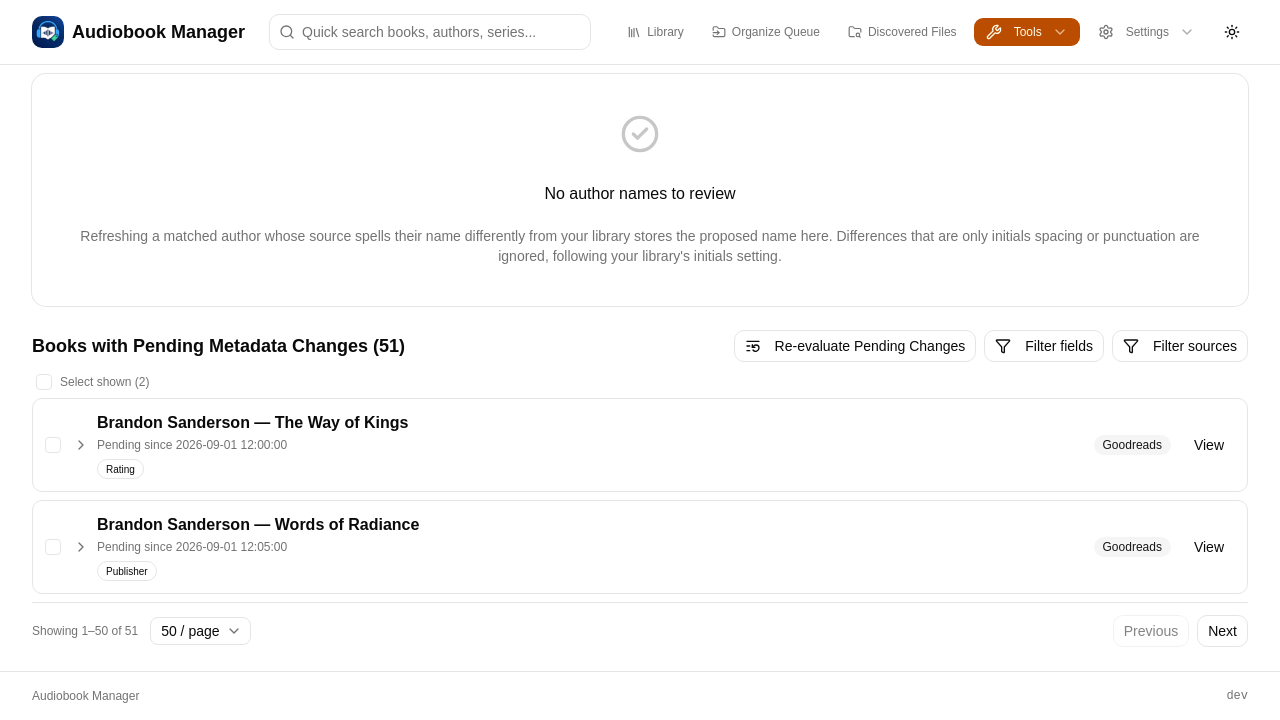
MetadataRefresh › paginates when the result set spans multiple pages
The image size is (1280, 720).
(page scrolled)
Check: the text "Showing 1–50 of 51" is shown, box left=32, top=623, right=138, bottom=639
Click the button "Next".
click(1223, 631)  # box left=1197, top=615, right=1248, bottom=647
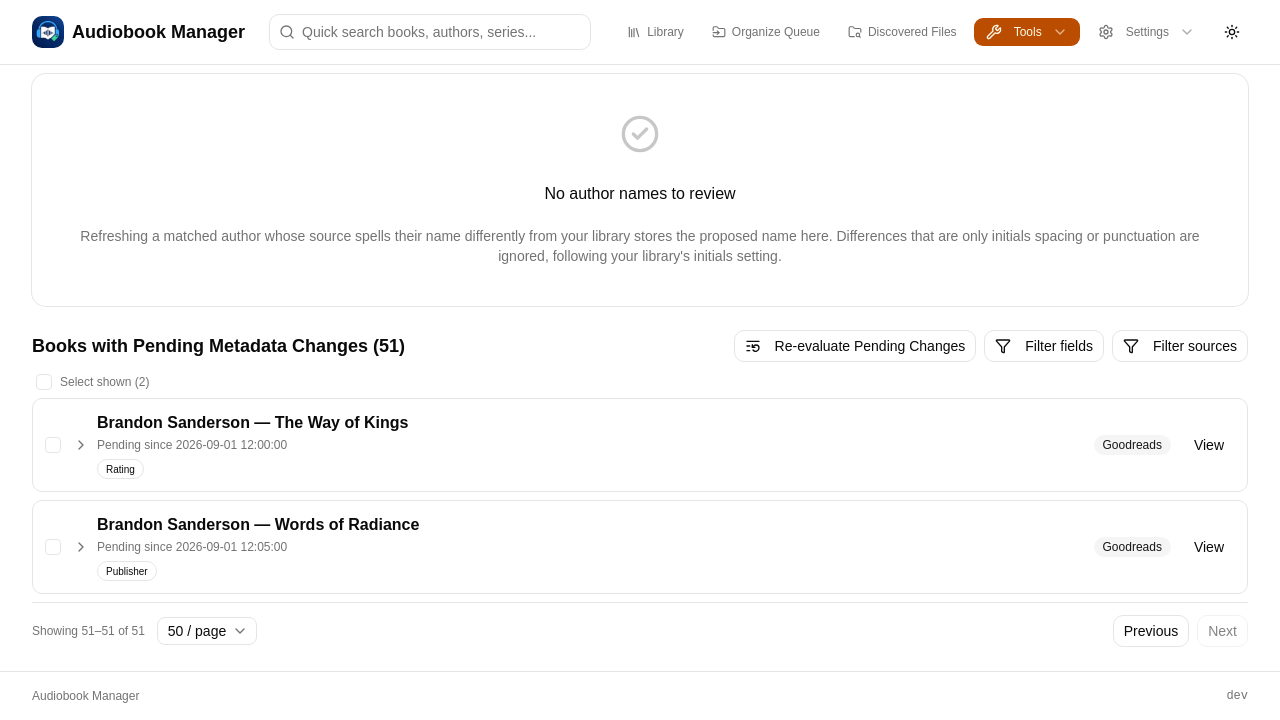
Check: the button "Previous" is enabled, box left=1113, top=615, right=1189, bottom=647
Check: the text "Showing 51–51 of 51" is shown, box left=32, top=623, right=145, bottom=639
